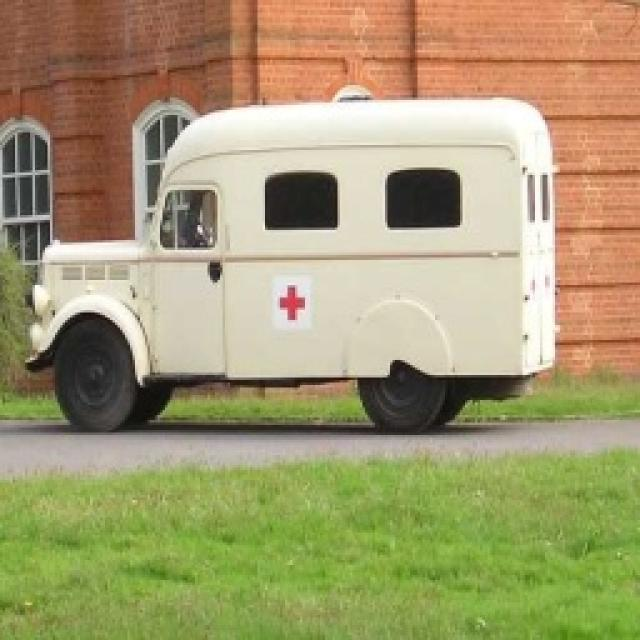emergency-vehicle: (22, 82, 570, 450)
